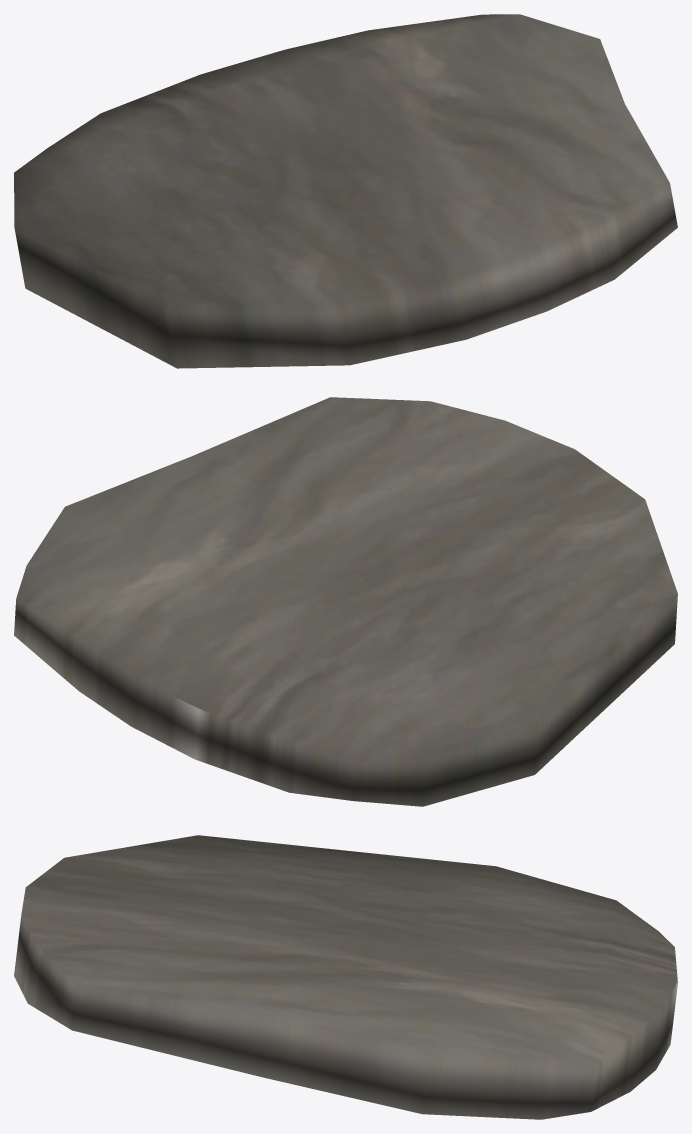
The model's file is FlatStone5Shape.dae.
3 views of the same model, one above another, from view 1: azimuth 30°, elevation 25°; view 2: azimuth 150°, elevation 25°; view 3: azimuth 270°, elevation 25° (orthographic). The views are drawn at different scales.
Visible parts, largest first — view 1: FlatStone5; view 2: FlatStone5; view 3: FlatStone5.
Part boxes in pixels (left/top/right/bottom): FlatStone5: left=14, top=14, right=677, bottom=368; FlatStone5: left=14, top=397, right=677, bottom=806; FlatStone5: left=14, top=835, right=677, bottom=1119.
Size of the model in its own units: 1.27 by 0.3457 by 1.34.
